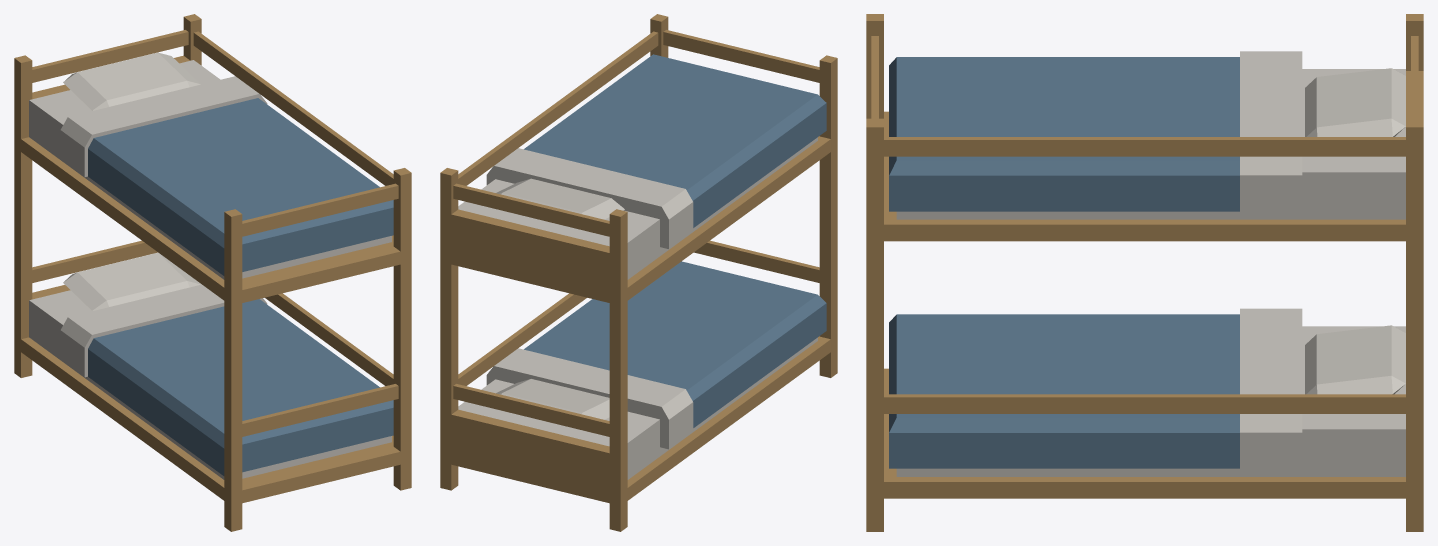
Rendered from bunk_bed.glb.
3 views of the same model, side by side, from view 1: azimuth 30°, elevation 25°; view 2: azimuth 150°, elevation 25°; view 3: azimuth 270°, elevation 25° (orthographic). The views are drawn at different scales.
Visible parts, largest first — view 1: bunk_bed; view 2: bunk_bed; view 3: bunk_bed.
Boxes of the visible parts, <box> form: bunk_bed: <box>14,14,411,531</box>; bunk_bed: <box>440,14,837,531</box>; bunk_bed: <box>866,14,1423,531</box>.
Size of the model in its own units: 1 by 1.65 by 2.06.
